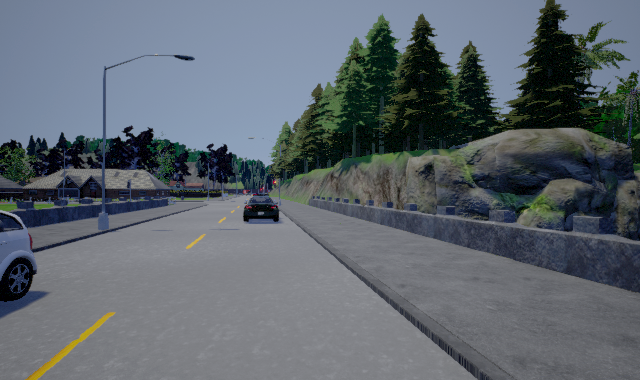vehicle: (0, 210, 37, 302), (243, 193, 279, 222)
